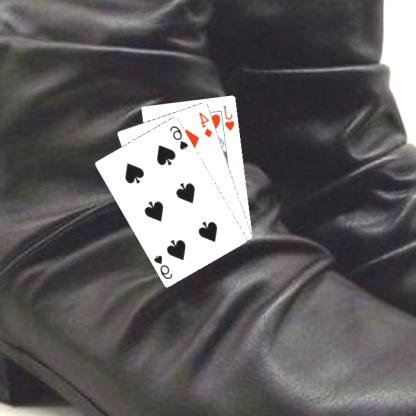4D: (198, 109, 216, 139)
6S: (168, 122, 192, 151), (153, 251, 176, 280)
JH: (222, 102, 238, 132)
